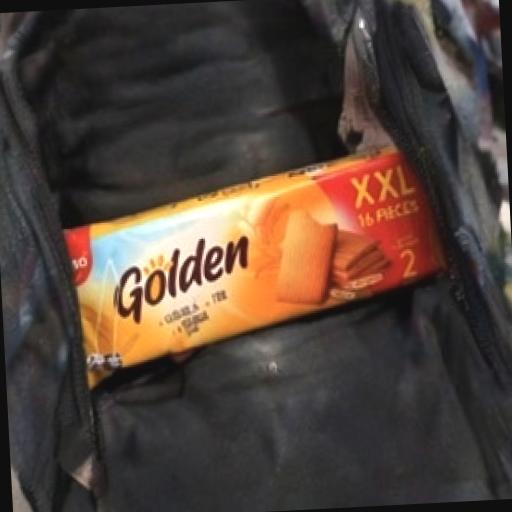golden: (24, 126, 502, 424)
